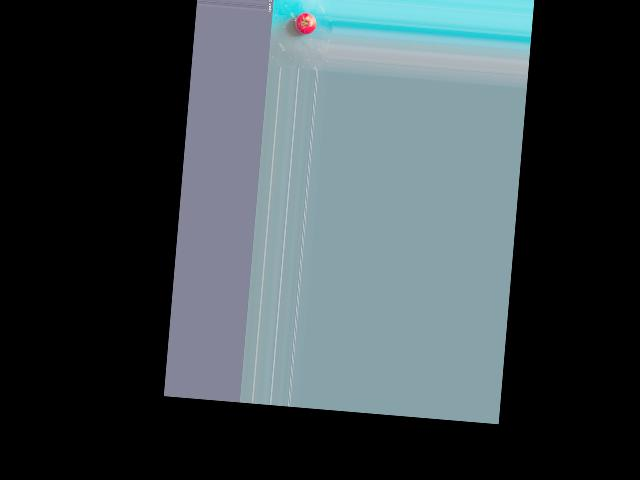tomato: (293, 12, 317, 35)
